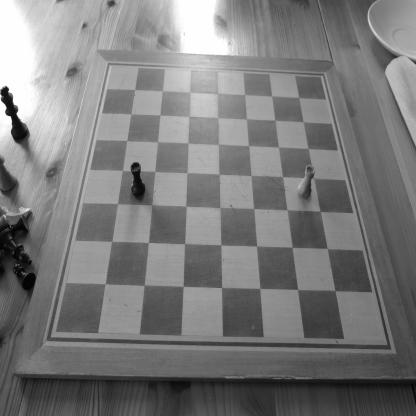black-bishop: (0, 228, 32, 266)
black-king: (0, 85, 29, 141)
black-pawn: (12, 262, 36, 292)
black-rook: (130, 162, 146, 198)
white-bishop: (0, 206, 33, 229)
white-rook: (297, 164, 316, 198)
